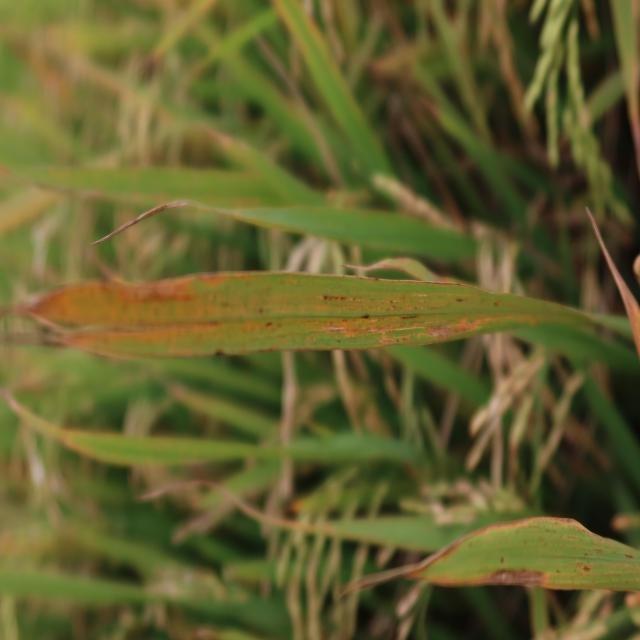Dom soc vi khuan: (132, 312, 536, 349)
